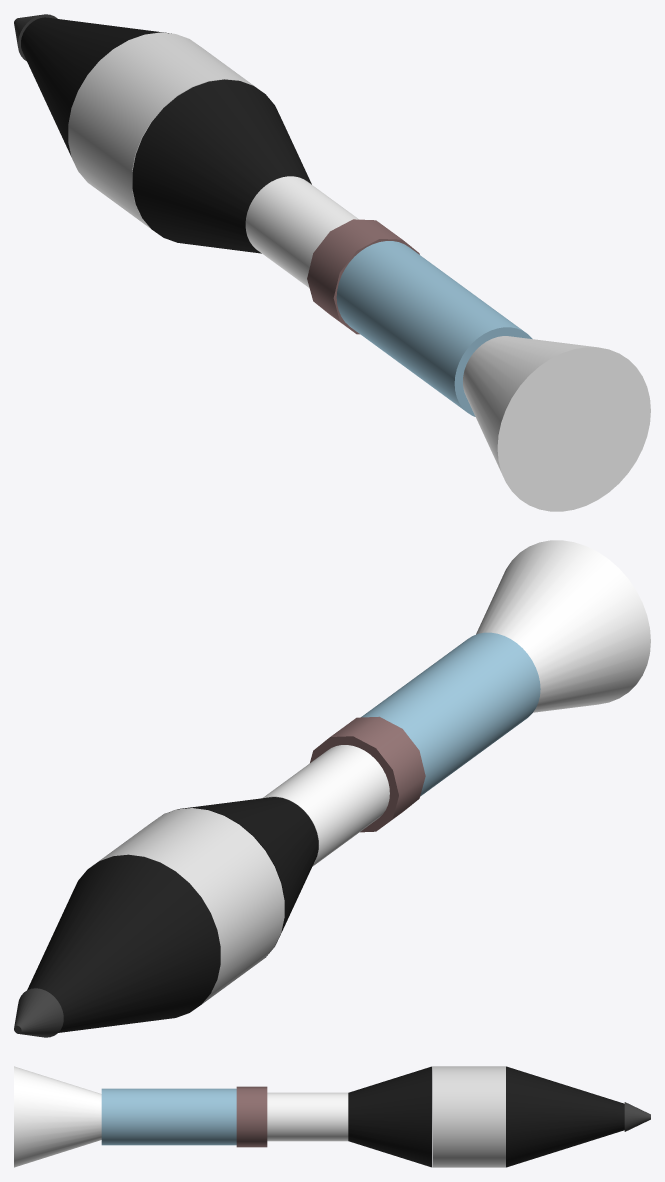
Rendered from rocket.glb.
3 renders of one model, top to bottom at view 1: azimuth 30°, elevation 25°; view 2: azimuth 150°, elevation 25°; view 3: azimuth 270°, elevation 25°, orthographic. The views are drawn at different scales.
Visible parts, largest first — view 1: Cylinder (×7); view 2: Cylinder (×8); view 3: Cylinder (×8).
Boxes of the visible parts, x1=… form: Cylinder (×7): x1=21, y1=17, x2=650, y2=511; Cylinder (×8): x1=14, y1=540, x2=650, y2=1037; Cylinder (×8): x1=14, y1=1066, x2=650, y2=1167.
Size of the model in its own units: 2 by 2 by 12.56.
